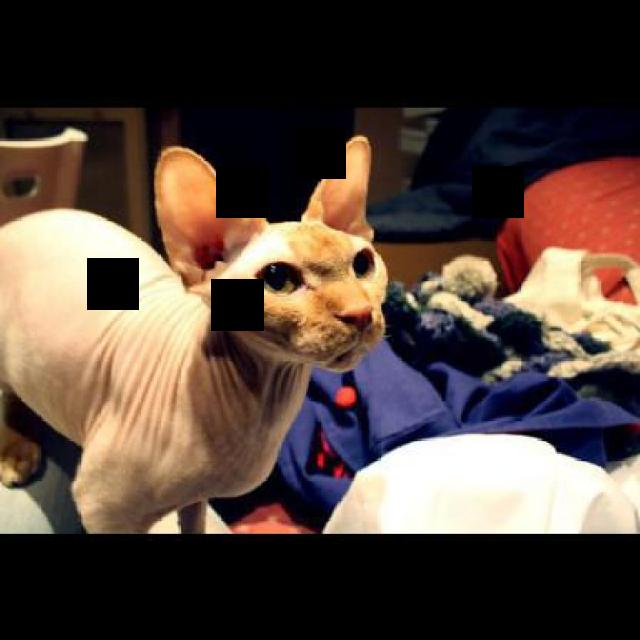unauthorized: (0, 132, 389, 534)
